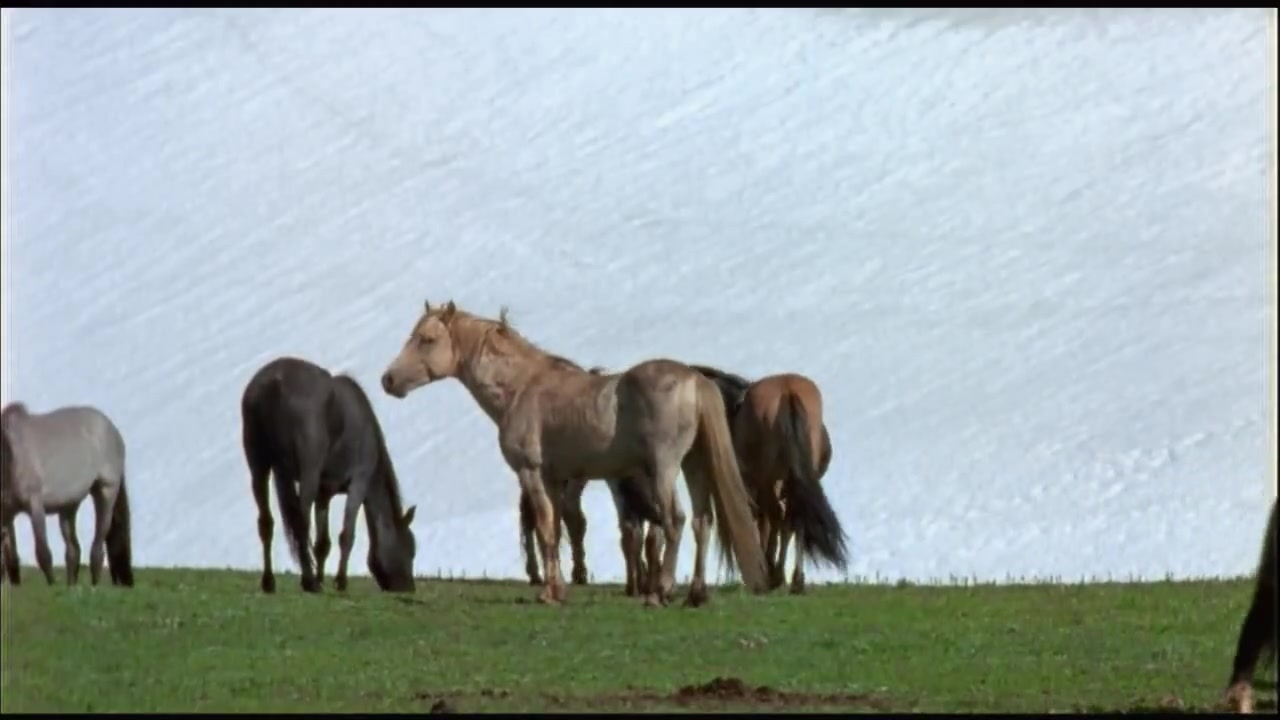horse: (382, 303, 775, 610)
